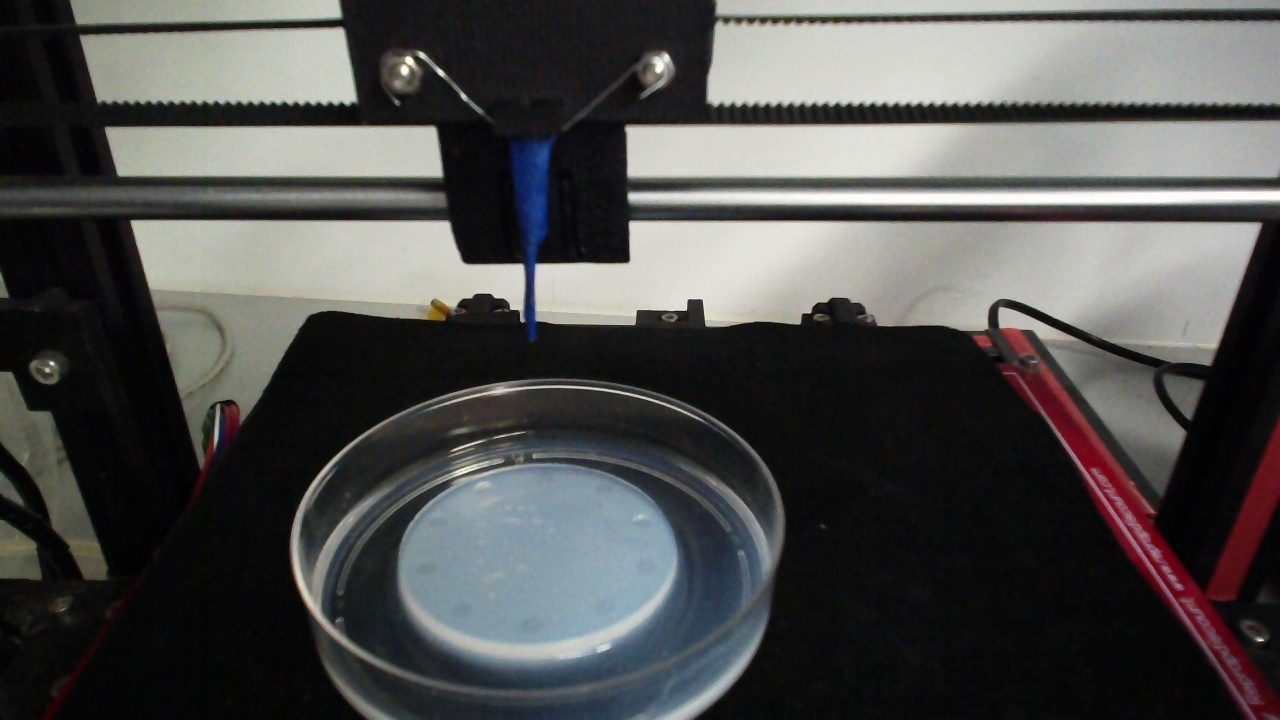groove: (517, 616, 546, 636), (590, 596, 618, 615), (532, 466, 559, 485), (413, 559, 439, 577), (448, 601, 473, 618), (592, 480, 617, 497), (634, 557, 658, 574), (630, 513, 653, 530), (427, 512, 449, 528), (471, 479, 493, 494)
needle: (511, 142, 552, 343)
